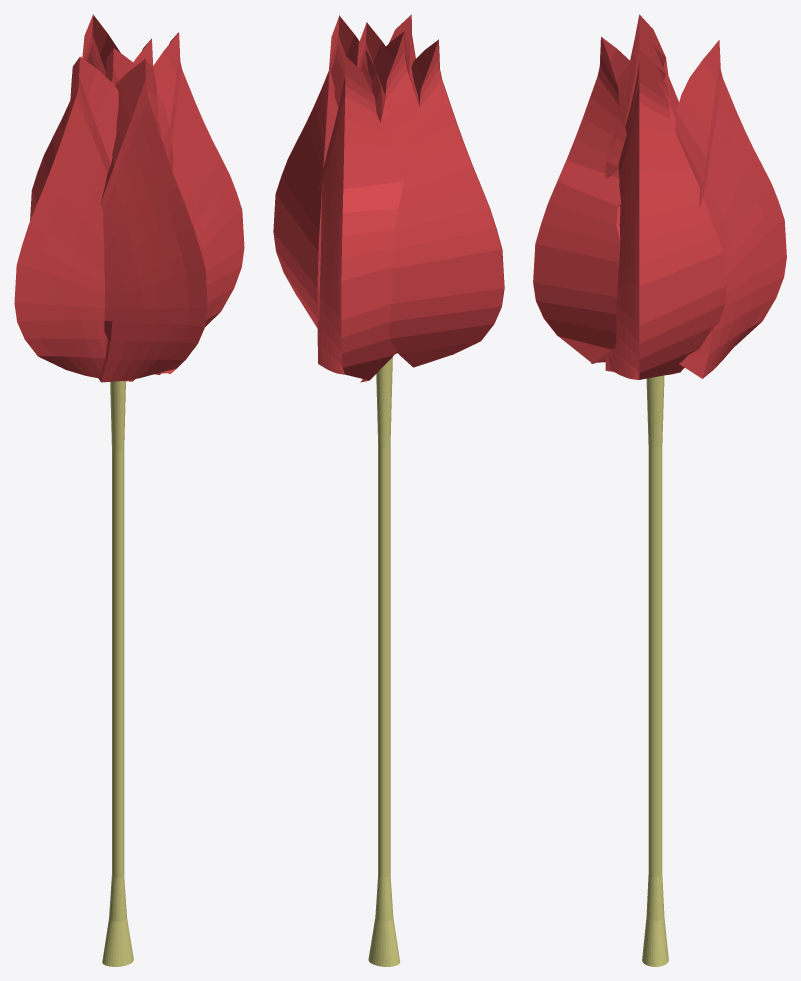
3 views of the same model, side by side, from view 1: azimuth 30°, elevation 25°; view 2: azimuth 150°, elevation 25°; view 3: azimuth 270°, elevation 25° (orthographic).
Parts seen in each view (by area): view 1: Plane.010, Plane, Plane.001, Cylinder, Plane.008, Plane.002, Plane.009, Plane.003; view 2: Plane.004, Plane.008, Cylinder, Plane.005, Plane.009, Plane.006, Plane.001, Plane.011, Plane; view 3: Plane.005, Plane.009, Plane.003, Cylinder, Plane.001, Plane.010, Plane.002, Plane.004.
Part boxes in pixels (x1,y1,x2,y2): Plane.010: (97,59,207,382); Plane: (14,56,132,381); Plane.001: (153,32,244,374); Cylinder: (102,381,133,966); Plane.008: (30,14,93,218); Plane.002: (111,48,173,373); Plane.009: (30,15,120,220); Plane.003: (145,60,189,374); Plane.004: (388,39,504,367); Plane.008: (341,56,404,382); Cylinder: (368,357,400,966); Plane.005: (273,15,339,328); Plane.009: (316,71,345,374); Plane.006: (380,32,419,353); Plane.001: (273,15,382,296); Plane.011: (361,22,394,117); Plane: (408,39,504,354); Plane.005: (639,62,726,379); Plane.009: (675,40,786,378); Plane.003: (533,37,626,363); Cylinder: (642,375,668,966); Plane.001: (608,72,639,379); Plane.010: (533,37,632,335); Plane.002: (605,32,639,371); Plane.004: (639,14,678,111).
Bounding box in the file's own units: 2.17 × 8.3 × 2.07.
